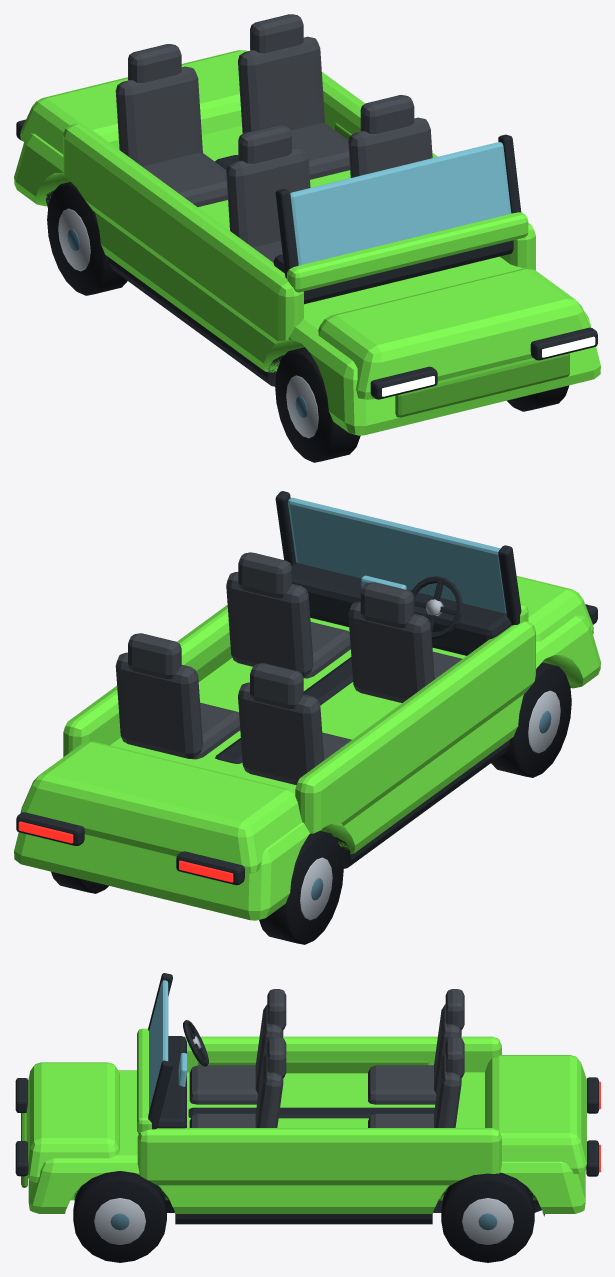
The model's file is EVGreen.glb.
3 renders of one model, top to bottom at view 1: azimuth 30°, elevation 25°; view 2: azimuth 150°, elevation 25°; view 3: azimuth 270°, elevation 25°, orthographic. The views are drawn at different scales.
Parts seen in each view (by area): view 1: FTF_Vehicle_ConvertibleEV_NeonGreen_4Seat_Static, FTF_Vehicle_ConvertibleEV_NeonGreen_4Seat_Wheel_FL_Mesh, FTF_Vehicle_ConvertibleEV_NeonGreen_4Seat_Wheel_RL_Mesh, FTF_Vehicle_ConvertibleEV_NeonGreen_4Seat_HeadlampHousing_Ri, FTF_Vehicle_ConvertibleEV_NeonGreen_4Seat_HeadlampHousing_Le, FTF_Vehicle_ConvertibleEV_NeonGreen_4Seat_Wheel_FR_Mesh; view 2: FTF_Vehicle_ConvertibleEV_NeonGreen_4Seat_Static, FTF_Vehicle_ConvertibleEV_NeonGreen_4Seat_Wheel_RL_Mesh, FTF_Vehicle_ConvertibleEV_NeonGreen_4Seat_Wheel_FL_Mesh, FTF_Vehicle_ConvertibleEV_NeonGreen_4Seat_SteeringWheel_Mesh, FTF_Vehicle_ConvertibleEV_NeonGreen_4Seat_RearLampHousing_Ri, FTF_Vehicle_ConvertibleEV_NeonGreen_4Seat_RearLampHousing_Le, FTF_Vehicle_ConvertibleEV_NeonGreen_4Seat_Wheel_RR_Mesh; view 3: FTF_Vehicle_ConvertibleEV_NeonGreen_4Seat_Static, FTF_Vehicle_ConvertibleEV_NeonGreen_4Seat_Wheel_FR_Mesh, FTF_Vehicle_ConvertibleEV_NeonGreen_4Seat_Wheel_RR_Mesh, FTF_Vehicle_ConvertibleEV_NeonGreen_4Seat_SteeringWheel_Mesh, FTF_Vehicle_ConvertibleEV_NeonGreen_4Seat_HeadlampHousing_Ri, FTF_Vehicle_ConvertibleEV_NeonGreen_4Seat_RearLampHousing_Ri, FTF_Vehicle_ConvertibleEV_NeonGreen_4Seat_HeadlampHousing_Le, FTF_Vehicle_ConvertibleEV_NeonGreen_4Seat_RearLampHousing_Le.
Boxes of the visible parts, left/top/right/bottom form: FTF_Vehicle_ConvertibleEV_NeonGreen_4Seat_Static: left=14, top=14, right=600, bottom=435; FTF_Vehicle_ConvertibleEV_NeonGreen_4Seat_Wheel_FL_Mesh: left=275, top=347, right=360, bottom=462; FTF_Vehicle_ConvertibleEV_NeonGreen_4Seat_Wheel_RL_Mesh: left=47, top=182, right=127, bottom=295; FTF_Vehicle_ConvertibleEV_NeonGreen_4Seat_HeadlampHousing_Ri: left=530, top=327, right=597, bottom=360; FTF_Vehicle_ConvertibleEV_NeonGreen_4Seat_HeadlampHousing_Le: left=370, top=366, right=437, bottom=399; FTF_Vehicle_ConvertibleEV_NeonGreen_4Seat_Wheel_FR_Mesh: left=507, top=385, right=569, bottom=411; FTF_Vehicle_ConvertibleEV_NeonGreen_4Seat_Static: left=14, top=491, right=600, bottom=920; FTF_Vehicle_ConvertibleEV_NeonGreen_4Seat_Wheel_RL_Mesh: left=259, top=831, right=343, bottom=944; FTF_Vehicle_ConvertibleEV_NeonGreen_4Seat_Wheel_FL_Mesh: left=491, top=662, right=571, bottom=777; FTF_Vehicle_ConvertibleEV_NeonGreen_4Seat_SteeringWheel_Mesh: left=411, top=576, right=462, bottom=639; FTF_Vehicle_ConvertibleEV_NeonGreen_4Seat_RearLampHousing_Ri: left=16, top=812, right=84, bottom=845; FTF_Vehicle_ConvertibleEV_NeonGreen_4Seat_RearLampHousing_Le: left=176, top=851, right=244, bottom=885; FTF_Vehicle_ConvertibleEV_NeonGreen_4Seat_Wheel_RR_Mesh: left=51, top=871, right=108, bottom=893; FTF_Vehicle_ConvertibleEV_NeonGreen_4Seat_Static: left=21, top=973, right=586, bottom=1224; FTF_Vehicle_ConvertibleEV_NeonGreen_4Seat_Wheel_FR_Mesh: left=73, top=1171, right=166, bottom=1262; FTF_Vehicle_ConvertibleEV_NeonGreen_4Seat_Wheel_RR_Mesh: left=441, top=1172, right=534, bottom=1262; FTF_Vehicle_ConvertibleEV_NeonGreen_4Seat_SteeringWheel_Mesh: left=183, top=1020, right=208, bottom=1066; FTF_Vehicle_ConvertibleEV_NeonGreen_4Seat_HeadlampHousing_Ri: left=15, top=1141, right=28, bottom=1176; FTF_Vehicle_ConvertibleEV_NeonGreen_4Seat_RearLampHousing_Ri: left=586, top=1140, right=598, bottom=1176; FTF_Vehicle_ConvertibleEV_NeonGreen_4Seat_HeadlampHousing_Le: left=15, top=1078, right=28, bottom=1112; FTF_Vehicle_ConvertibleEV_NeonGreen_4Seat_RearLampHousing_Le: left=587, top=1077, right=598, bottom=1113.
Size of the model in its own units: 1.89 by 1.73 by 4.64.
